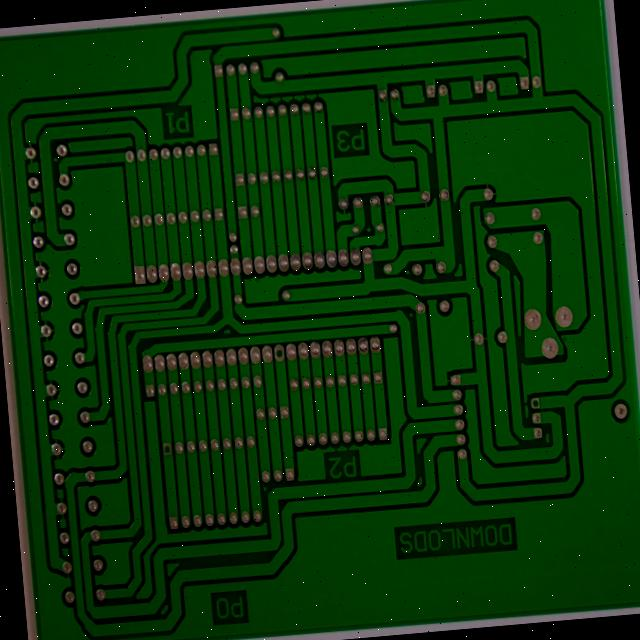missing_hole: (294, 379, 312, 405), (174, 486, 191, 513), (570, 439, 589, 460)
